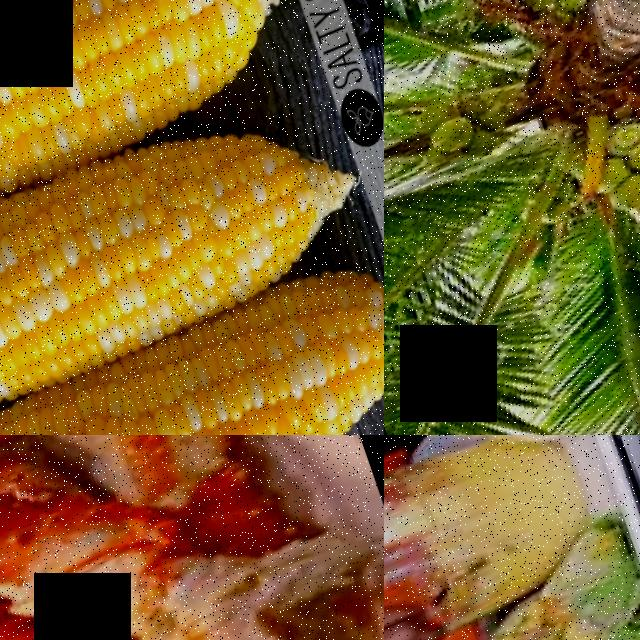coconuts: (407, 76, 516, 184), (576, 115, 640, 231), (496, 0, 615, 37)
corn: (0, 80, 355, 435), (0, 0, 310, 264), (0, 252, 384, 435)
crab: (0, 435, 384, 640)
